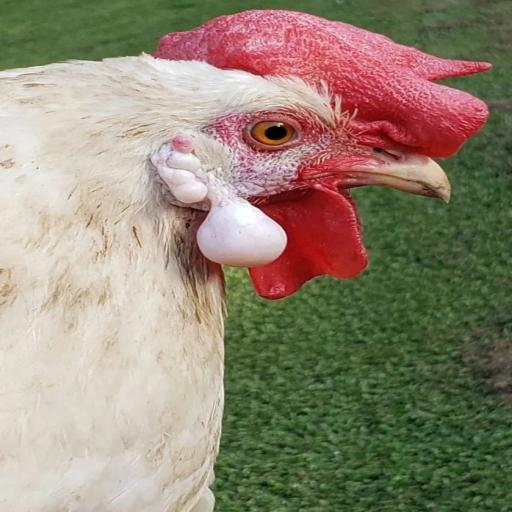disease: (130, 139, 316, 270)
